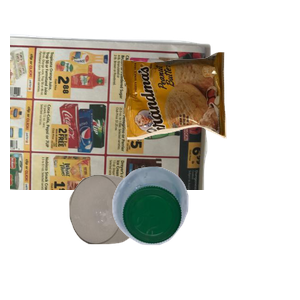glass: (67, 172, 229, 300)
paper: (10, 31, 214, 211)
plastic: (110, 164, 300, 300)
trash: (120, 50, 300, 182)
